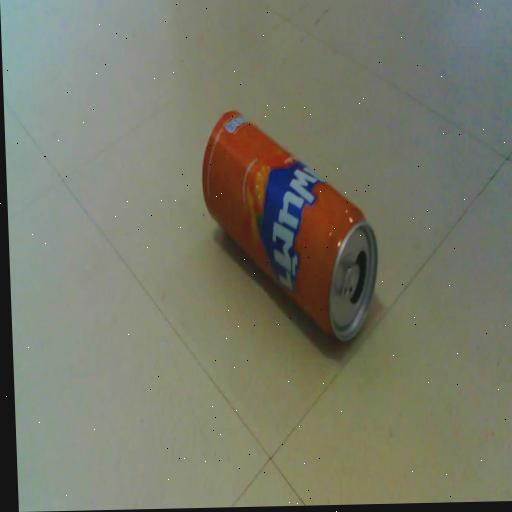canned: (184, 95, 388, 373)
